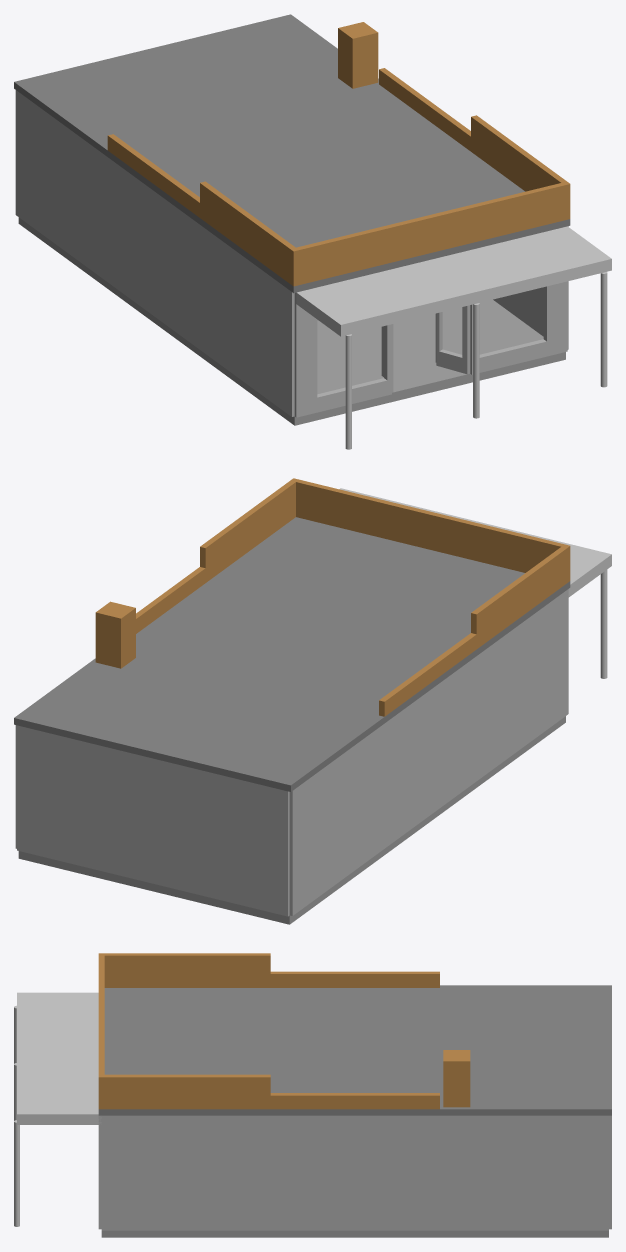
Rendered from building_phase_1a_iter_041.glb.
3 views of the same model, one above another, from view 1: azimuth 30°, elevation 25°; view 2: azimuth 150°, elevation 25°; view 3: azimuth 270°, elevation 25° (orthographic). The views are drawn at different scales.
Visible parts, largest first — view 1: Roof, Wall_Left, Canopy_Roof, Foundation, Parapet_Front, Wall_Front, Parapet_Left_Front, Parapet_Right_Front, Chimney, Parapet_Left_Middle, Parapet_Right_Middle, Wall_Right (+4 smaller); view 2: Roof, Wall_Left, Wall_Rear, Parapet_Front, Foundation, Parapet_Left_Front, Parapet_Right_Front, Chimney, Parapet_Left_Middle, Canopy_Roof, Parapet_Right_Middle, Canopy_Post_1; view 3: Wall_Right, Roof, Canopy_Roof, Parapet_Right_Front, Parapet_Left_Front, Foundation, Parapet_Left_Middle, Parapet_Right_Middle, Chimney, Parapet_Front, Canopy_Post_3, Wall_Front.
Part boxes in pixels (x1,y1,x2,y2): Roof: (14, 14, 570, 293); Wall_Left: (15, 90, 294, 416); Canopy_Roof: (296, 226, 611, 336); Foundation: (18, 217, 565, 425); Parapet_Front: (290, 181, 570, 286); Wall_Front: (294, 281, 567, 417); Parapet_Left_Front: (200, 181, 296, 284); Parapet_Right_Front: (471, 115, 566, 191); Chimney: (338, 22, 378, 88); Parapet_Left_Middle: (107, 134, 199, 217); Parapet_Right_Middle: (379, 68, 470, 151); Wall_Right: (493, 226, 568, 349); Roof: (14, 517, 570, 791); Wall_Left: (289, 589, 568, 915); Wall_Rear: (17, 725, 289, 916); Parapet_Front: (292, 478, 570, 582); Foundation: (18, 716, 565, 924); Parapet_Left_Front: (471, 546, 567, 648); Parapet_Right_Front: (200, 479, 297, 582); Chimney: (95, 601, 135, 668); Parapet_Left_Middle: (379, 633, 476, 716); Canopy_Roof: (339, 488, 611, 597); Parapet_Right_Middle: (136, 567, 205, 633); Canopy_Post_1: (600, 570, 607, 678); Wall_Right: (101, 1115, 608, 1230); Roof: (98, 985, 611, 1115); Canopy_Roof: (17, 992, 101, 1124); Parapet_Right_Front: (101, 1074, 270, 1109); Parapet_Left_Front: (102, 953, 270, 987); Foundation: (101, 1230, 608, 1237); Parapet_Left_Middle: (270, 971, 439, 987); Parapet_Right_Middle: (270, 1093, 439, 1109); Chimney: (443, 1050, 470, 1107); Parapet_Front: (98, 953, 104, 1109); Canopy_Post_3: (14, 1120, 19, 1226); Wall_Front: (98, 1115, 101, 1229).
Size of the model in its own units: 8.68 by 5.73 by 17.68.
